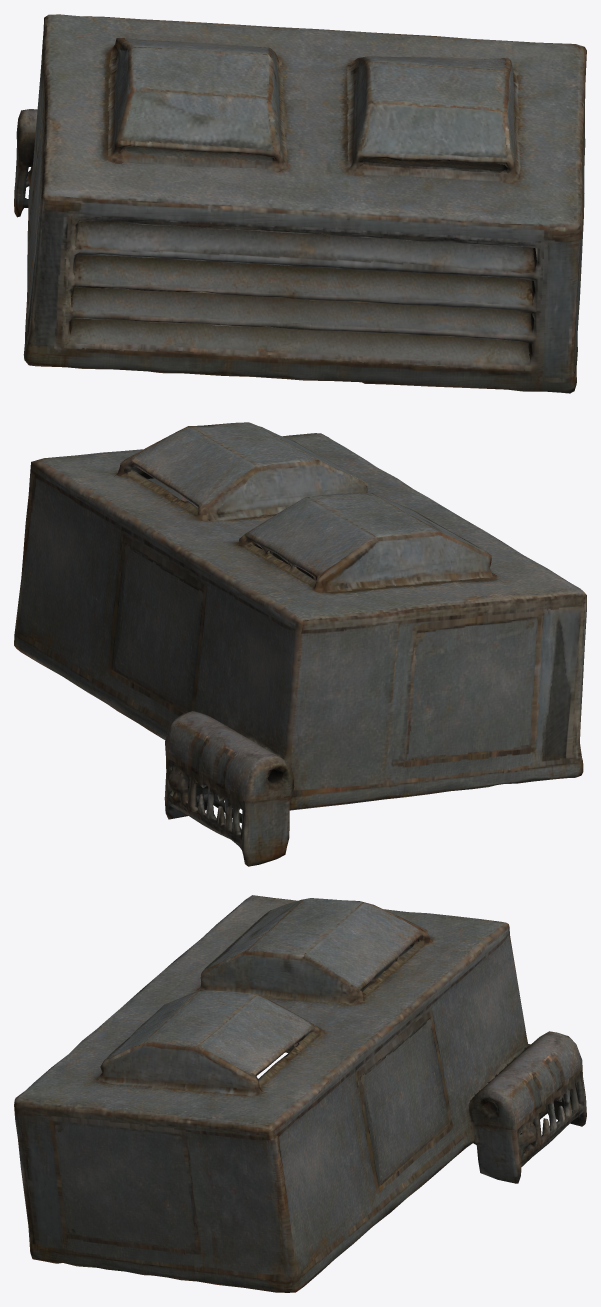
Rendered from shelter_roof_air_handler_raw.glb.
3 renders of one model, top to bottom at view 1: azimuth 30°, elevation 25°; view 2: azimuth 150°, elevation 25°; view 3: azimuth 270°, elevation 25°, orthographic. The views are drawn at different scales.
Size of the model in its own units: 0.9151 by 0.4232 by 0.8972.
1 material, 1 textured.
